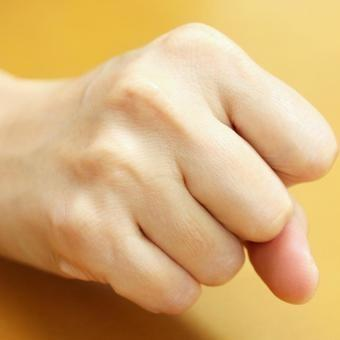gu-: (22, 21, 339, 317)
